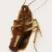cockroach: (9, 3, 34, 52)
